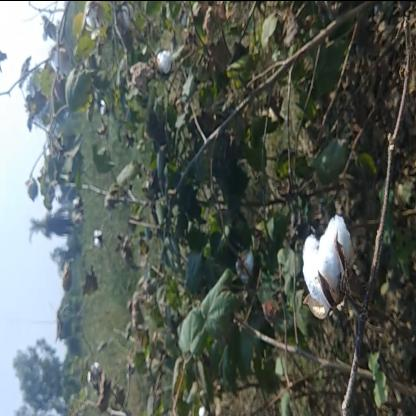cotton_ready: (292, 189, 376, 349)
